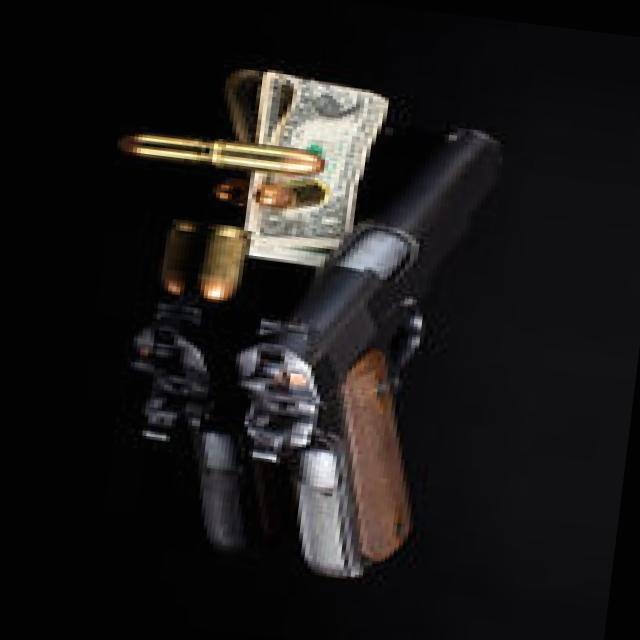handgun: (217, 96, 513, 594)
